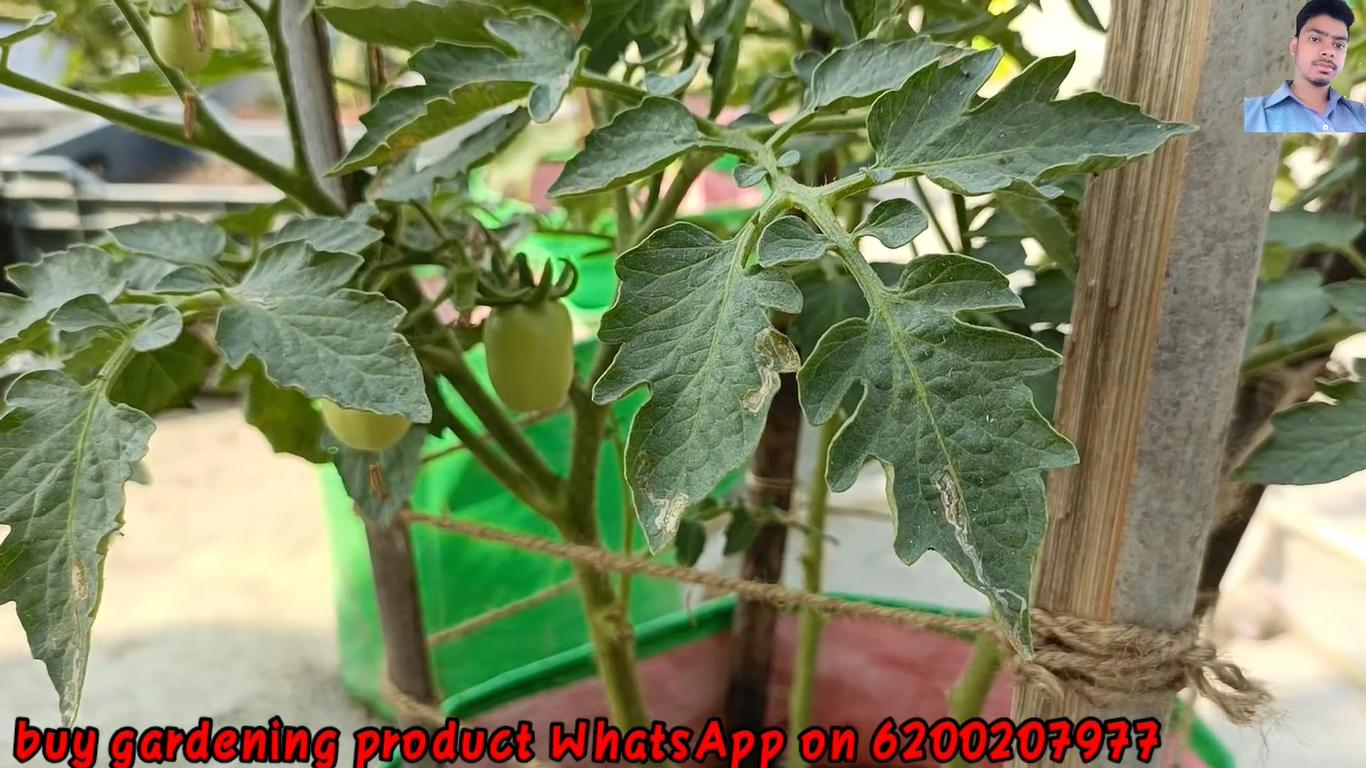Healthy: (867, 40, 1204, 201), (213, 233, 440, 429), (547, 94, 704, 201)
Leaf_Miner: (799, 251, 1084, 664), (591, 216, 807, 563), (0, 367, 164, 724)
